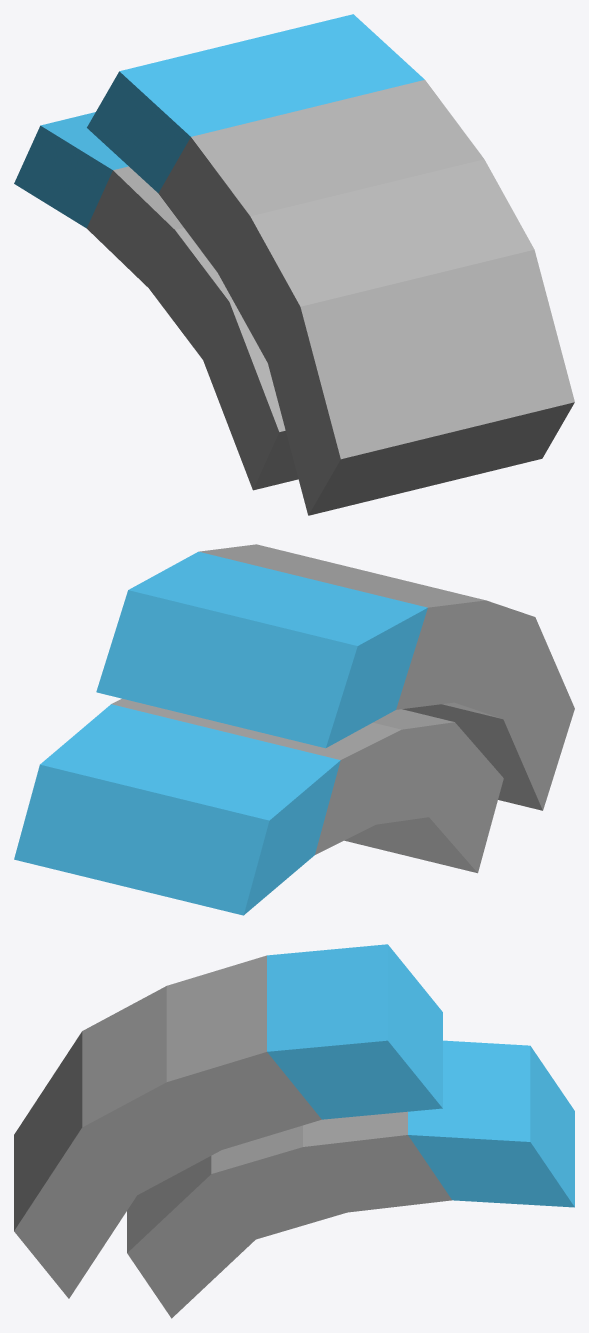
Rendered from booby_hair.glb.
3 renders of one model, top to bottom at view 1: azimuth 30°, elevation 25°; view 2: azimuth 150°, elevation 25°; view 3: azimuth 270°, elevation 25°, orthographic. The views are drawn at different scales.
Visible parts, largest first — view 1: Cube; view 2: Cube; view 3: Cube.
Part boxes in pixels (left/top/right/bottom): Cube: left=14, top=14, right=574, bottom=515; Cube: left=14, top=544, right=574, bottom=915; Cube: left=14, top=944, right=574, bottom=1318.
Bounding box in the file's own units: 0.2659 × 0.3465 × 0.6388.
Materials: 1 (1 with a texture image).
